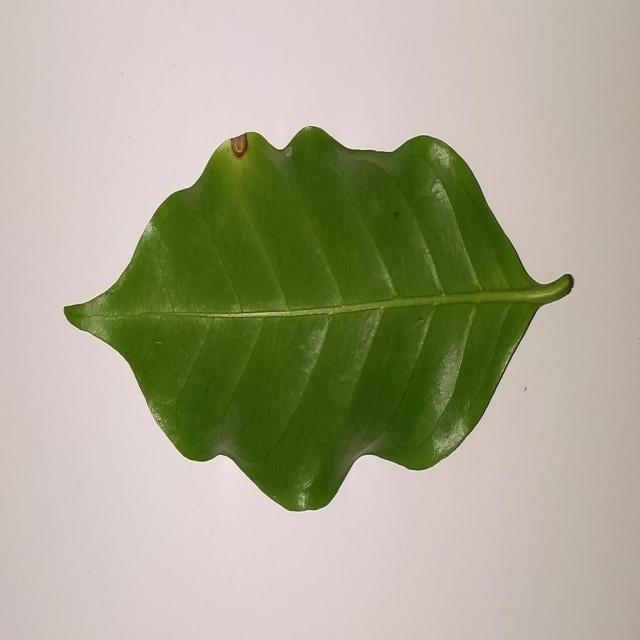Enfermedad-Mancha-de-hierro: (62, 127, 575, 516)
